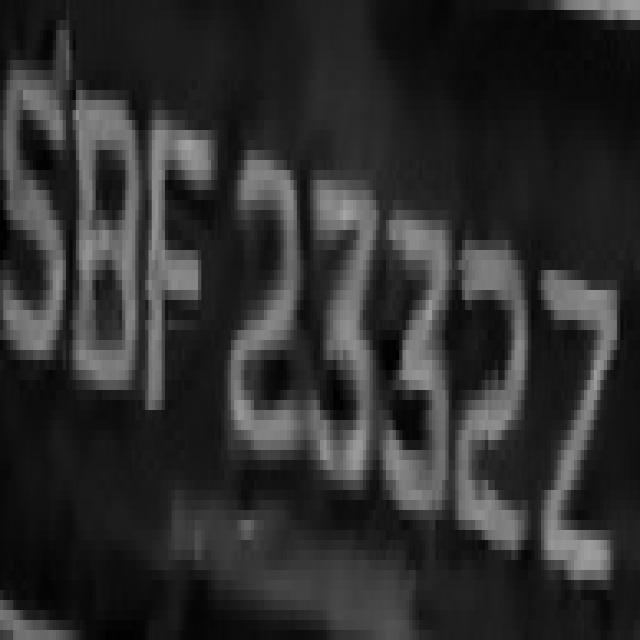2: (228, 120, 306, 480), (459, 180, 521, 580)
3: (379, 160, 458, 600), (307, 150, 379, 520)
B: (63, 70, 145, 420)
F: (142, 80, 208, 420)
S: (7, 30, 62, 400)
Z: (541, 210, 614, 630)
